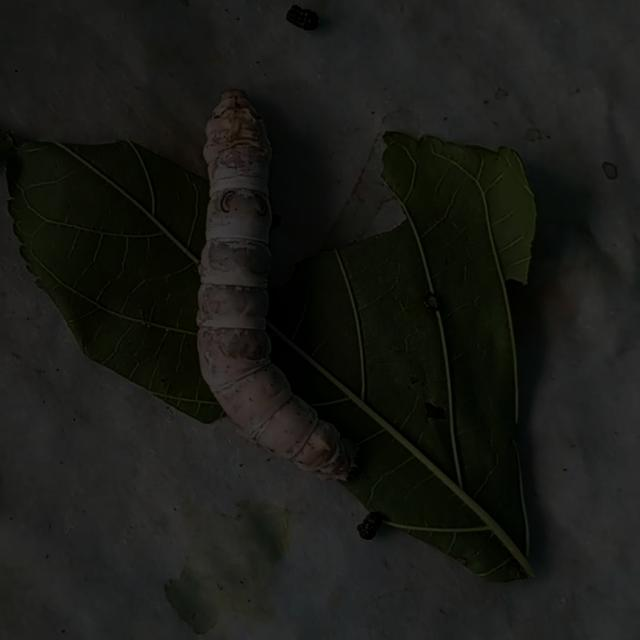Grasserie: (175, 62, 400, 507)
